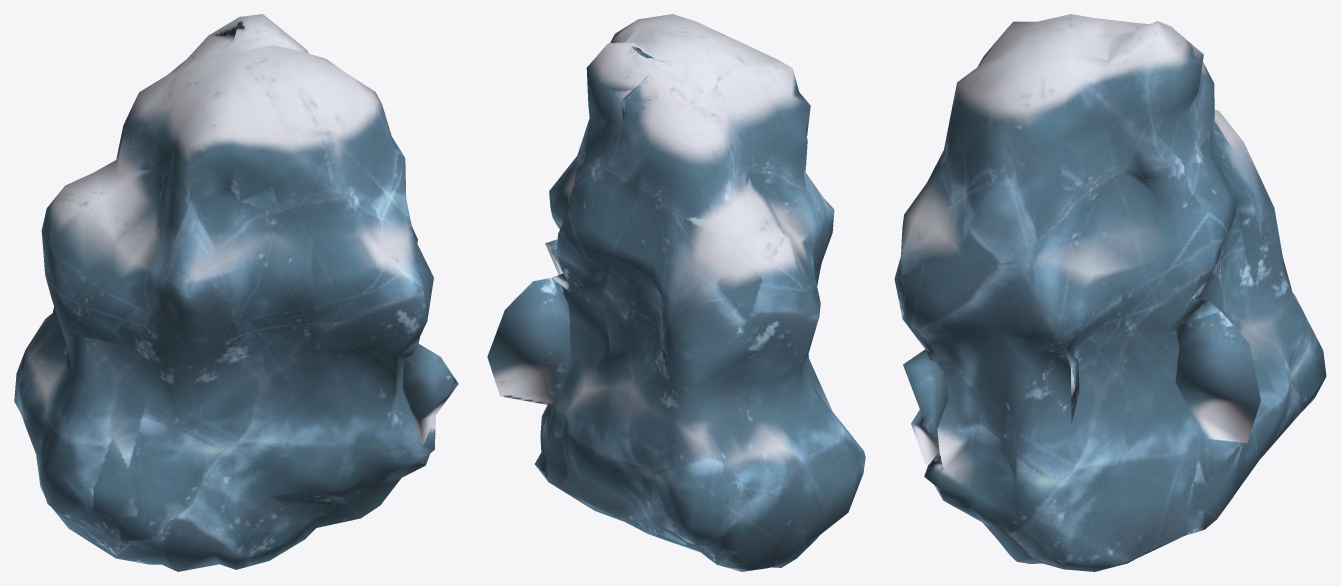
File: serac_a.glb
3 renders of one model, left to right at view 1: azimuth 30°, elevation 25°; view 2: azimuth 150°, elevation 25°; view 3: azimuth 270°, elevation 25°, orthographic. The views are drawn at different scales.
Parts seen in each view (by area): view 1: serac_a; view 2: serac_a; view 3: serac_a.
Boxes of the visible parts, x1,y1,x2,y2 form: serac_a: (14,14,458,571); serac_a: (487,14,865,571); serac_a: (894,14,1326,571).
Size of the model in its own units: 5.44 by 7.72 by 5.57.
1 material, 1 textured.
